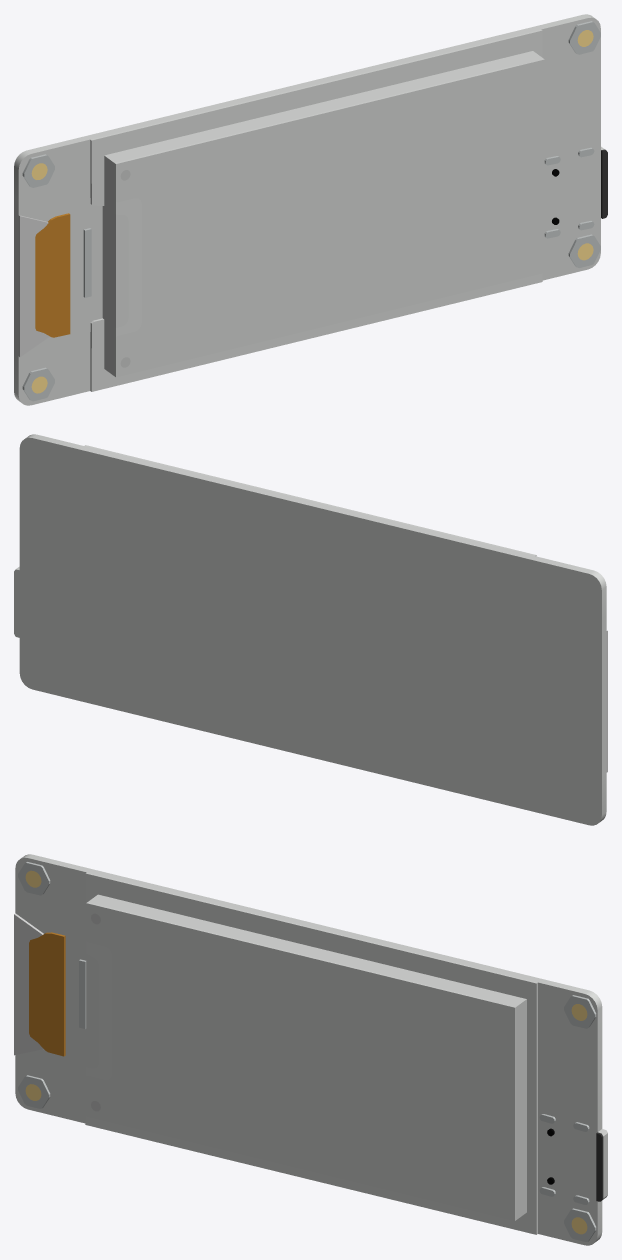
The model's file is heltec-wireless-paper.glb.
3 views of the same model, one above another, from view 1: azimuth 30°, elevation 25°; view 2: azimuth 150°, elevation 25°; view 3: azimuth 330°, elevation 25° (orthographic).
Parts seen in each view (by area): view 1: Face_e8eae8, Body, Face_dbdddb, Display, Face_c6842a, Face_c5c9c9, Face_d3d3d3, Face_ffe091; view 2: Body, Face_dbdddb; view 3: Face_e8eae8, Body, Face_dbdddb, Display, Face_c6842a, Face_c5c9c9, Face_d3d3d3, Face_ffe091, Face_353535.
Boxes of the visible parts, bbox=[...] form: Face_e8eae8: bbox=[114, 58, 544, 376]; Body: bbox=[14, 14, 604, 405]; Face_dbdddb: bbox=[90, 29, 542, 391]; Display: bbox=[102, 51, 542, 375]; Face_c6842a: bbox=[35, 213, 70, 337]; Face_c5c9c9: bbox=[22, 21, 600, 401]; Face_d3d3d3: bbox=[18, 215, 49, 356]; Face_ffe091: bbox=[31, 30, 593, 393]; Body: bbox=[14, 434, 606, 825]; Face_dbdddb: bbox=[84, 445, 536, 556]; Face_e8eae8: bbox=[86, 903, 515, 1220]; Body: bbox=[15, 854, 607, 1245]; Face_dbdddb: bbox=[85, 872, 537, 1234]; Display: bbox=[88, 894, 526, 1219]; Face_c6842a: bbox=[29, 932, 65, 1056]; Face_c5c9c9: bbox=[18, 862, 596, 1241]; Face_d3d3d3: bbox=[14, 913, 43, 1055]; Face_ffe091: bbox=[25, 870, 587, 1234]; Face_353535: bbox=[596, 1132, 603, 1201].
Bounding box in the file's own units: 0.072 × 0.0294 × 0.0038.
